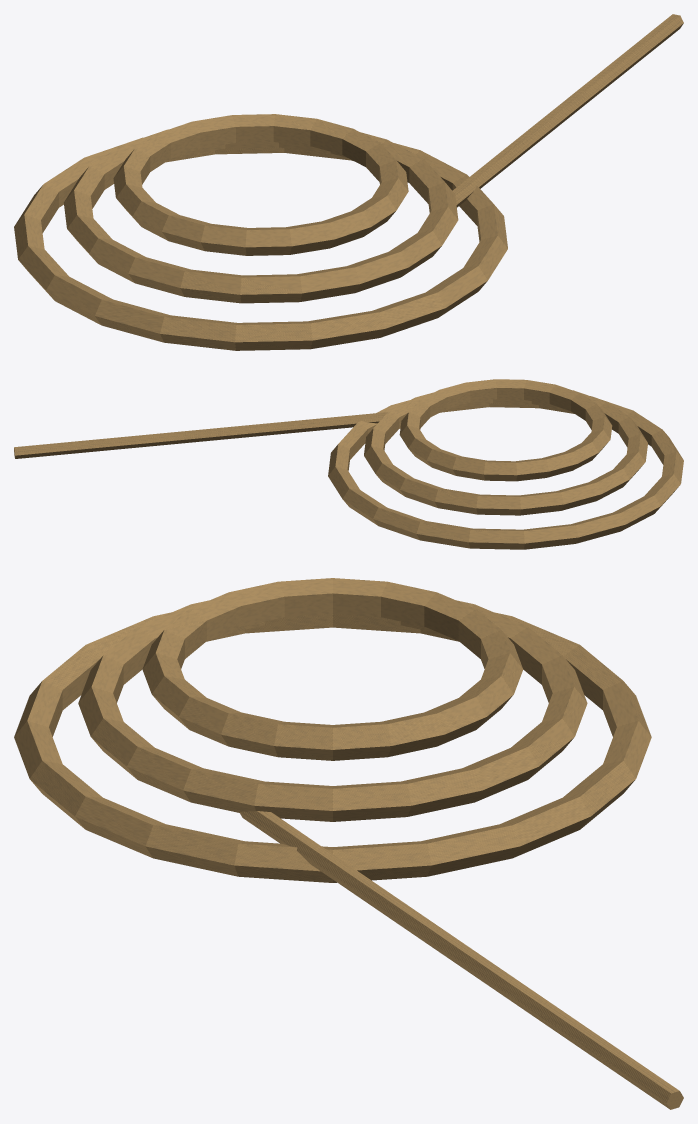
Rendered from ax-com-004_cable_coil__loose.obj.
3 renders of one model, top to bottom at view 1: azimuth 30°, elevation 25°; view 2: azimuth 150°, elevation 25°; view 3: azimuth 270°, elevation 25°, orthographic. The views are drawn at different scales.
Visible parts, largest first — view 1: ax-com-004_cable_coil__loose; view 2: ax-com-004_cable_coil__loose; view 3: ax-com-004_cable_coil__loose.
Boxes of the visible parts, box(x1,y1,x2,y2) form: ax-com-004_cable_coil__loose: box(14, 14, 683, 350); ax-com-004_cable_coil__loose: box(14, 379, 683, 549); ax-com-004_cable_coil__loose: box(14, 578, 683, 1109).
Bounding box in the file's own units: 1.06 × 0.1158 × 0.6261.
Materials: 1 (1 with a texture image).
